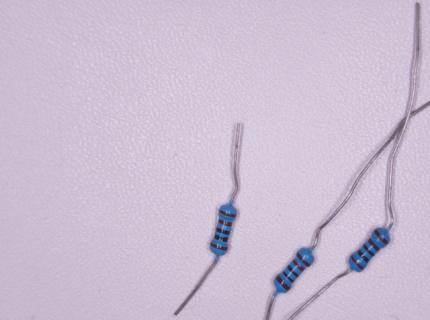Black band: (363, 243, 375, 257), (357, 250, 370, 262), (216, 228, 230, 235), (215, 235, 228, 242)
Brown band: (351, 254, 365, 270), (375, 229, 388, 245), (367, 238, 380, 252), (219, 210, 237, 218), (211, 243, 228, 250), (218, 219, 232, 227)
